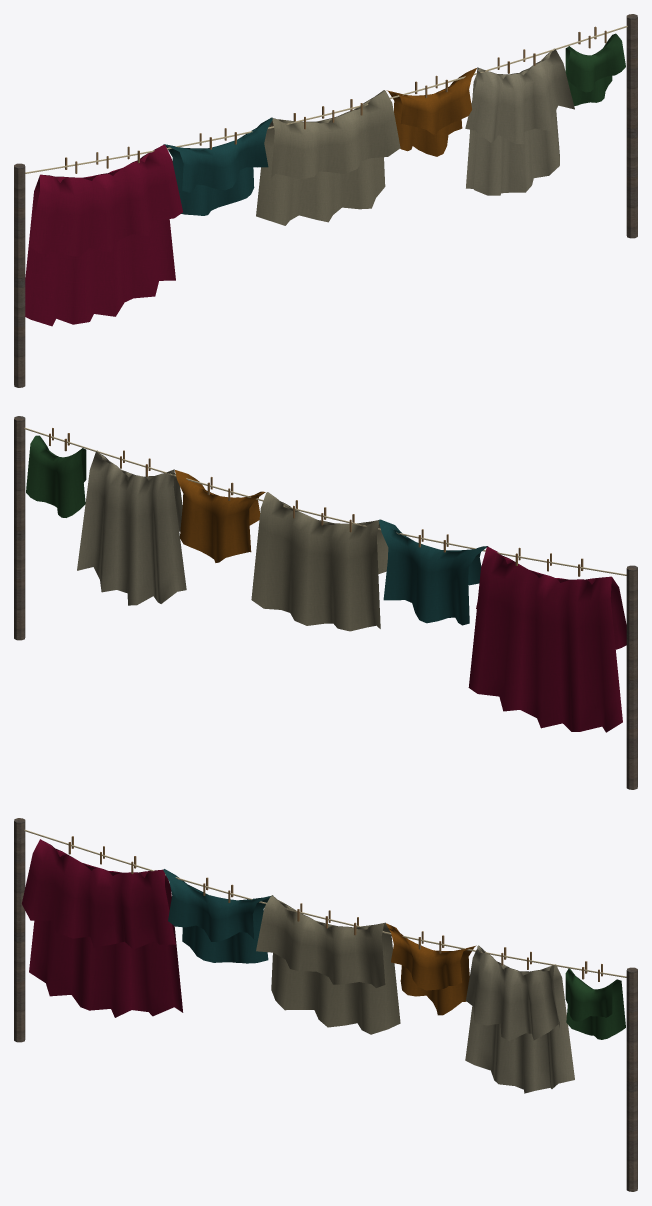
The model's file is laundry_line.glb.
3 views of the same model, one above another, from view 1: azimuth 30°, elevation 25°; view 2: azimuth 150°, elevation 25°; view 3: azimuth 330°, elevation 25° (orthographic).
Parts seen in each view (by area): view 1: ldy_sari, ldy_sheet, ldy_dhoti, ldy_shirt, ldy_tshirt, ldy_towel, ldy_post_l, ldy_post_r; view 2: ldy_sari, ldy_sheet, ldy_dhoti, ldy_shirt, ldy_tshirt, ldy_towel, ldy_post_l, ldy_post_r; view 3: ldy_sari, ldy_sheet, ldy_dhoti, ldy_shirt, ldy_tshirt, ldy_towel, ldy_post_r, ldy_post_l.
Boxes of the visible parts, x1,y1,x2,y2 form: ldy_sari: (25, 144, 182, 326); ldy_sheet: (256, 90, 400, 225); ldy_dhoti: (465, 48, 574, 195); ldy_shirt: (163, 117, 272, 215); ldy_tshirt: (386, 68, 476, 156); ldy_towel: (565, 33, 625, 105); ldy_post_l: (14, 163, 25, 387); ldy_post_r: (626, 14, 637, 238); ldy_sari: (468, 546, 626, 732); ldy_sheet: (251, 492, 388, 631); ldy_dhoti: (77, 450, 186, 605); ldy_shirt: (378, 519, 488, 625); ldy_tshirt: (175, 470, 265, 562); ldy_towel: (26, 435, 86, 517); ldy_post_l: (626, 565, 637, 789); ldy_post_r: (14, 416, 25, 640); ldy_sari: (22, 839, 183, 1017); ldy_sheet: (256, 895, 400, 1034); ldy_dhoti: (465, 945, 574, 1093); ldy_shirt: (163, 869, 272, 963); ldy_tshirt: (386, 923, 476, 1015); ldy_towel: (565, 968, 625, 1039); ldy_post_r: (626, 967, 637, 1191); ldy_post_l: (14, 818, 25, 1042).
Bounding box in the file's own units: 5.49 × 1.85 × 0.26.
4 materials, 2 textured.
